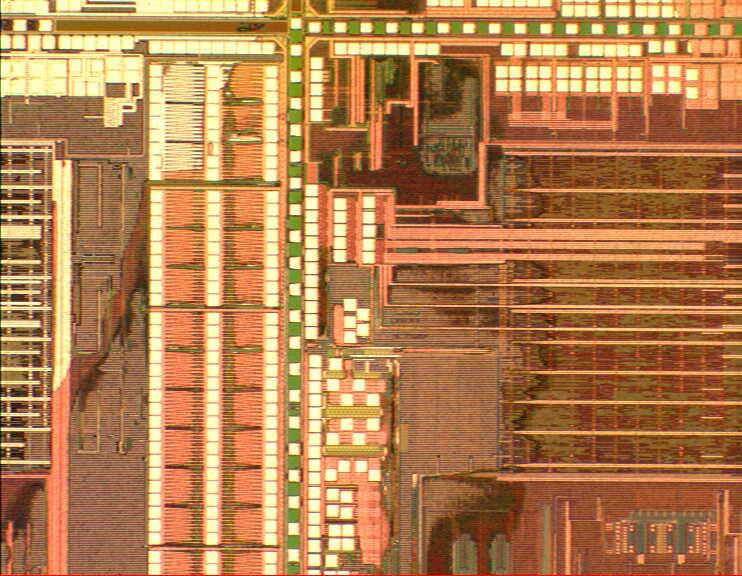COATING BAD: (1, 1, 562, 576)
